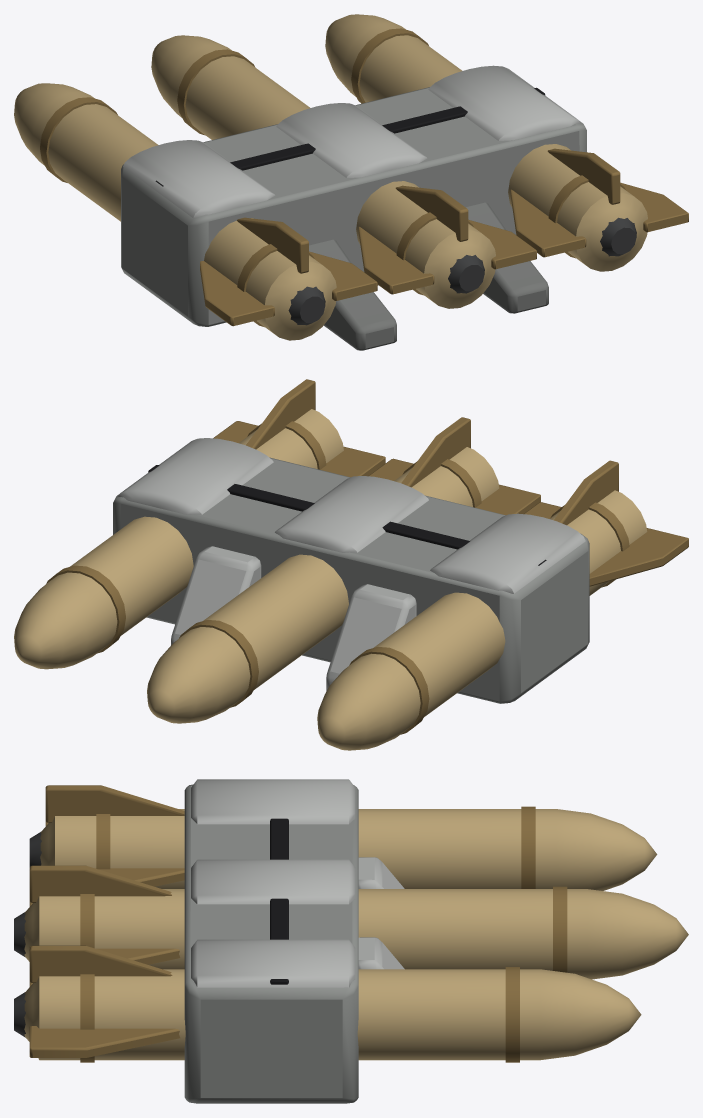
Rendered from store_gun_14.glb.
3 renders of one model, top to bottom at view 1: azimuth 30°, elevation 25°; view 2: azimuth 150°, elevation 25°; view 3: azimuth 270°, elevation 25°, orthographic. The views are drawn at different scales.
Parts seen in each view (by area): view 1: rack, missile_centre, missile_left, missile_right, rack_hump_-12.0, rack_hump_12.0, rack_hump_0.0, rack_tongue_-6.0, rack_tongue_6.0, missile_left_fin_-1, missile_centre_fin_-1, missile_right_fin_-1 (+16 smaller); view 2: rack, missile_centre, missile_left, missile_right, rack_hump_-12.0, rack_hump_12.0, rack_hump_0.0, bracket_-1, bracket_1, missile_left_fin_-1, rack_groove, missile_right_fin_up (+10 smaller); view 3: rack, missile_right, missile_centre, missile_left, rack_hump_12.0, rack_hump_-12.0, rack_hump_0.0, missile_right_fin_1, missile_right_fin_up, missile_centre_fin_up, missile_left_fin_up, rack_groove (+10 smaller).
Boxes of the visible parts, x1=… form: rack: x1=121, y1=87, x2=586, y2=326; missile_centre: x1=151, y1=35, x2=495, y2=308; missile_left: x1=14, y1=83, x2=336, y2=340; missile_right: x1=325, y1=14, x2=647, y2=271; rack_hump_-12.0: x1=123, y1=140, x2=275, y2=218; rack_hump_12.0: x1=428, y1=65, x2=579, y2=140; rack_hump_0.0: x1=276, y1=103, x2=427, y2=178; rack_tongue_-6.0: x1=309, y1=239, x2=396, y2=350; rack_tongue_6.0: x1=466, y1=202, x2=548, y2=313; missile_left_fin_-1: x1=200, y1=261, x2=274, y2=326; missile_centre_fin_-1: x1=358, y1=226, x2=434, y2=294; missile_right_fin_-1: x1=510, y1=189, x2=586, y2=257; rack: x1=113, y1=457, x2=589, y2=703; missile_centre: x1=147, y1=447, x2=499, y2=723; missile_left: x1=317, y1=490, x2=647, y2=750; missile_right: x1=14, y1=409, x2=343, y2=669; rack_hump_-12.0: x1=430, y1=513, x2=585, y2=593; rack_hump_12.0: x1=118, y1=438, x2=273, y2=514; rack_hump_0.0: x1=275, y1=476, x2=428, y2=552; bracket_-1: x1=326, y1=584, x2=416, y2=690; bracket_1: x1=171, y1=546, x2=261, y2=644; missile_left_fin_-1: x1=589, y1=528, x2=688, y2=586; rack_groove: x1=148, y1=465, x2=546, y2=565; missile_right_fin_up: x1=246, y1=379, x2=315, y2=449; rack: x1=184, y1=784, x2=358, y2=1103; missile_right: x1=24, y1=969, x2=641, y2=1060; missile_centre: x1=24, y1=889, x2=688, y2=979; missile_left: x1=40, y1=809, x2=657, y2=890; rack_hump_12.0: x1=191, y1=939, x2=355, y2=987; rack_hump_-12.0: x1=191, y1=779, x2=355, y2=824; rack_hump_0.0: x1=191, y1=859, x2=355, y2=904; missile_right_fin_1: x1=29, y1=1026, x2=180, y2=1057; missile_right_fin_up: x1=29, y1=945, x2=172, y2=982; missile_centre_fin_up: x1=29, y1=865, x2=171, y2=902; missile_left_fin_up: x1=45, y1=785, x2=184, y2=822; rack_groove: x1=270, y1=818, x2=288, y2=984.
Bounding box in the file's own units: 35.6 × 9.5 × 42.7.
